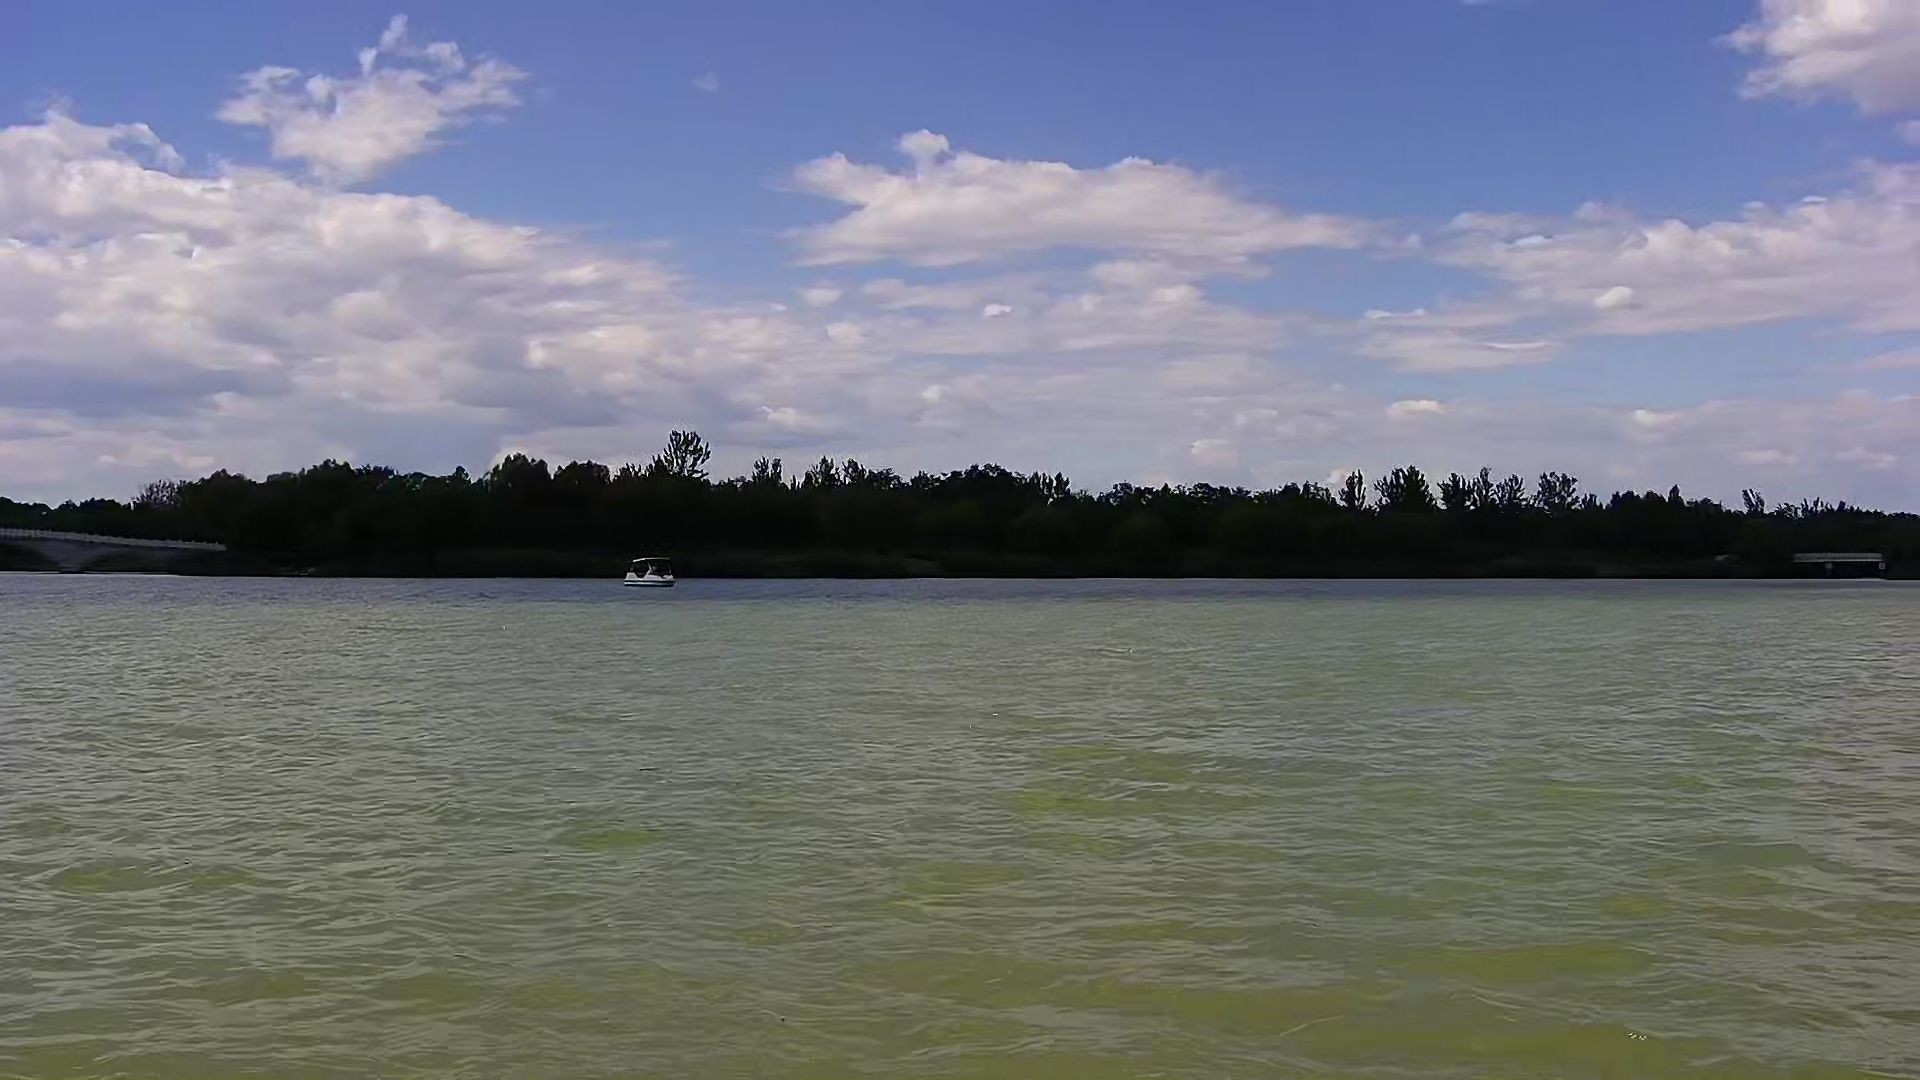boat: (618, 549, 682, 591)
bridge: (1, 524, 239, 578)
